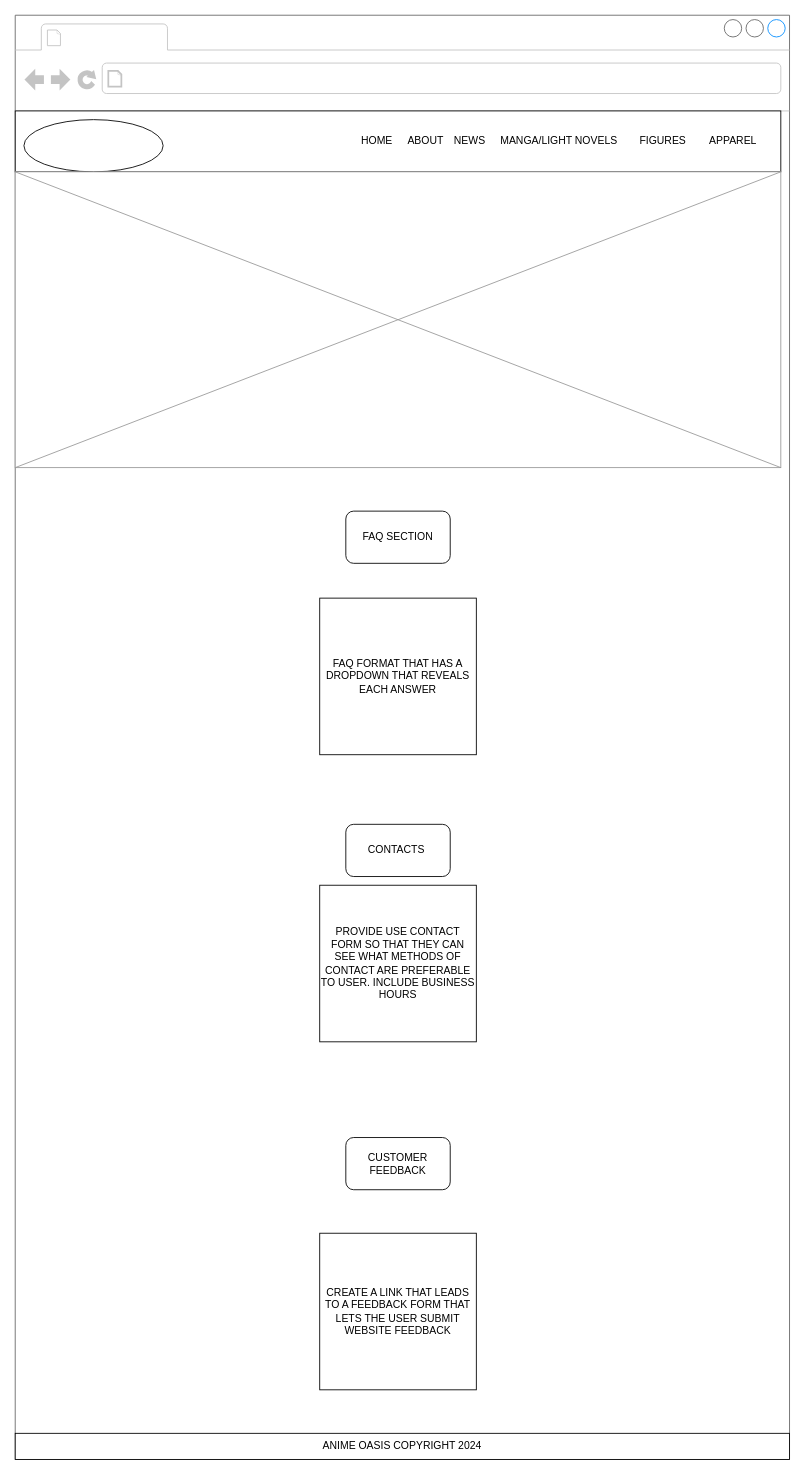
This 805x1475 diagram has some shape labels left out. Here are the shapes that lost their labels. From the top down, the centre of each, then its label:
[115,36]: Page 1
[236,78]: https://www.draw.io
[93,145]: ANIME OASIS
